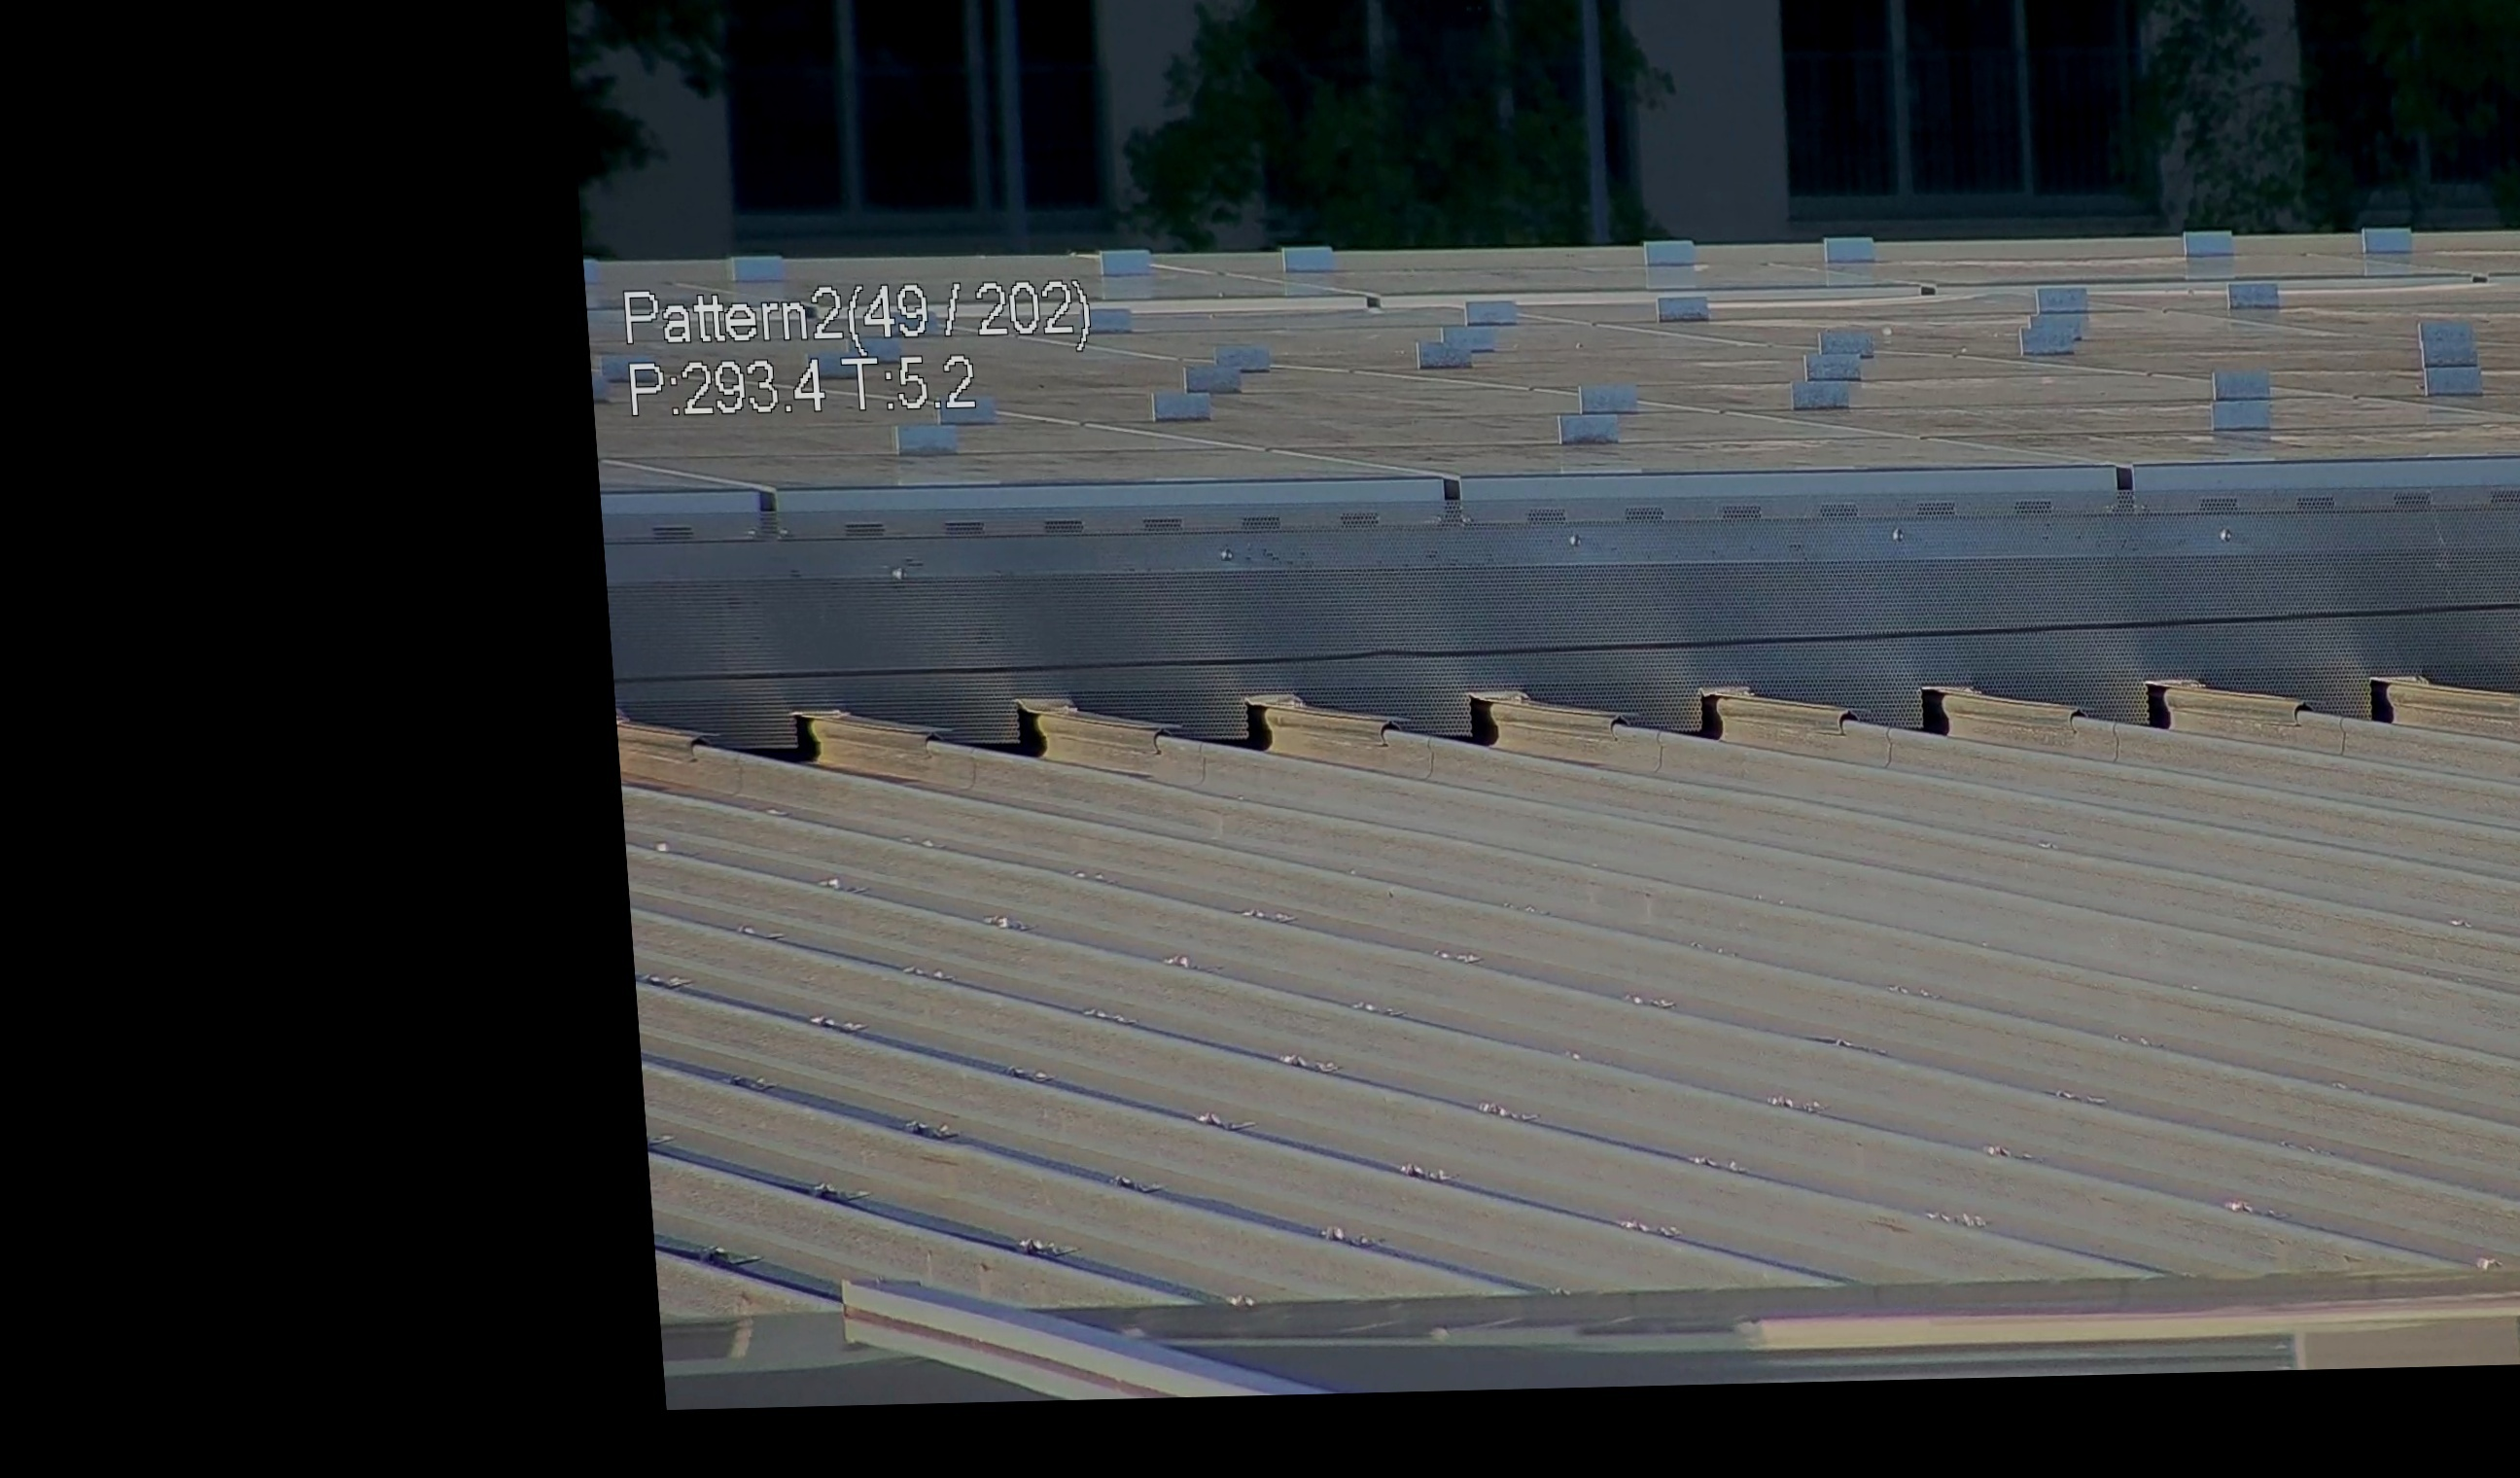Other: (976, 690, 1045, 762)
